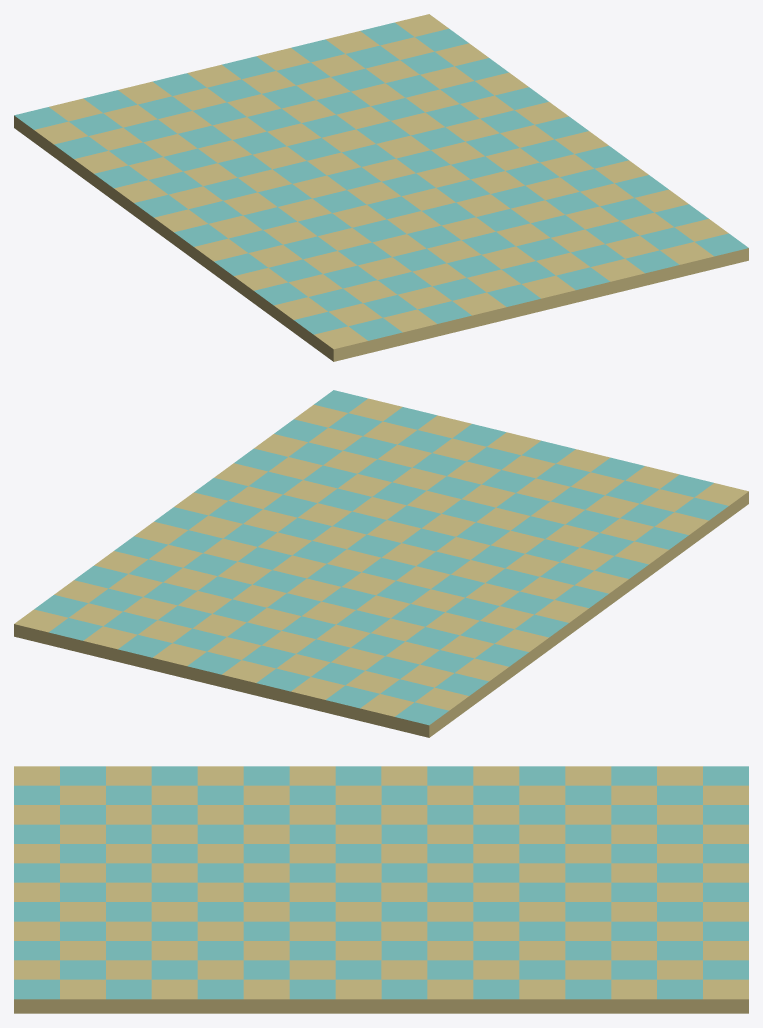
The model's file is KitchenFloorLarge.glb.
3 views of the same model, one above another, from view 1: azimuth 30°, elevation 25°; view 2: azimuth 150°, elevation 25°; view 3: azimuth 270°, elevation 25° (orthographic). The views are drawn at different scales.
Parts seen in each view (by area): view 1: Cube.126; view 2: Cube.126; view 3: Cube.126.
Boxes of the visible parts, left/top/right/bottom form: Cube.126: left=14, top=14, right=748, bottom=361; Cube.126: left=14, top=390, right=748, bottom=737; Cube.126: left=14, top=766, right=748, bottom=1013.
Bounding box in the file's own units: 12 × 0.3482 × 16.
